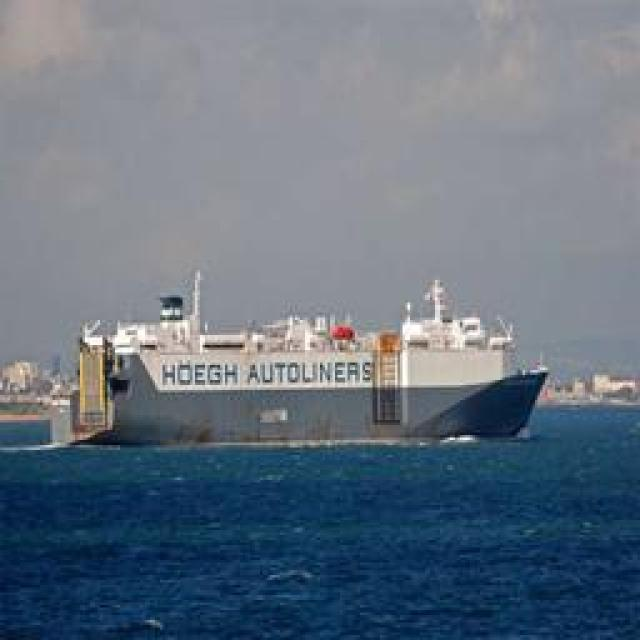ship2: (70, 270, 550, 449)
